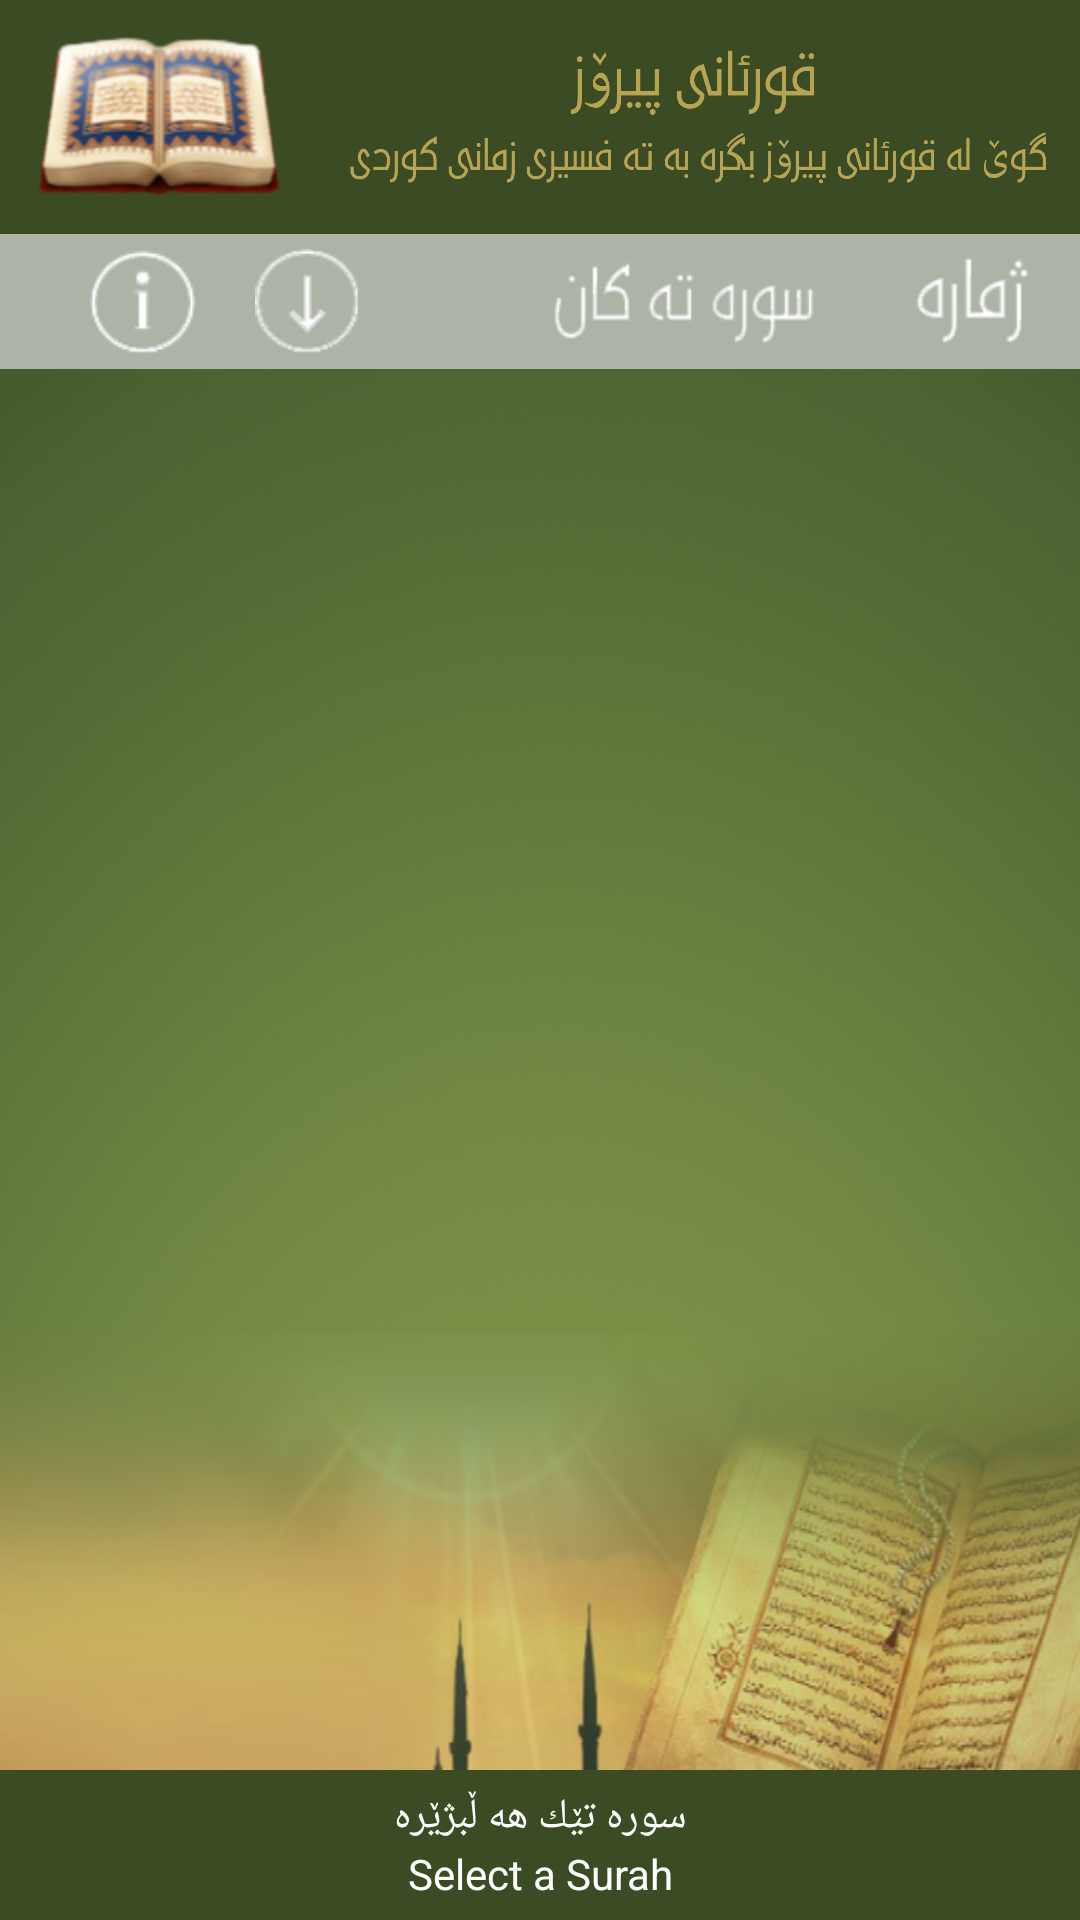

Screen size 1080 × 1920. Icon name, then its box in pixels as [x1,y1,x2,y2]:
book: [40,37,279,194]
but change arrow: [255,249,358,352]
but change info: [91,251,195,352]
